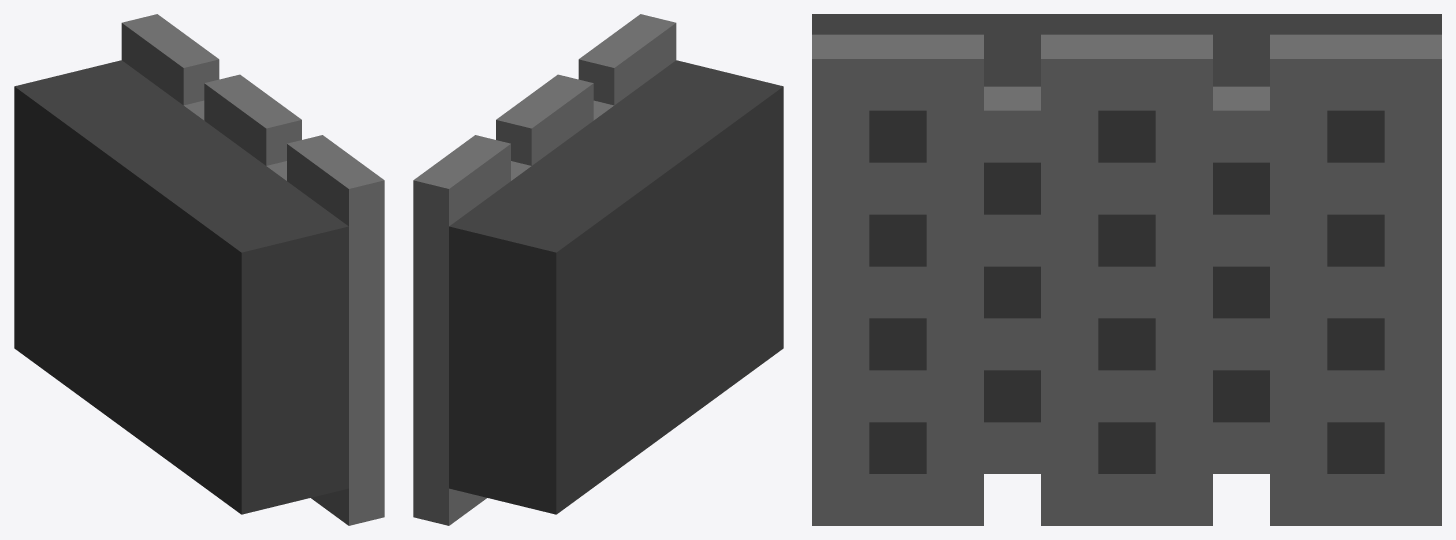
The model's file is wallpiece.FBX.
3 views of the same model, side by side, from view 1: azimuth 30°, elevation 25°; view 2: azimuth 150°, elevation 25°; view 3: azimuth 270°, elevation 25° (orthographic). The views are drawn at different scales.
Parts seen in each view (by area): view 1: wallPiece; view 2: wallPiece; view 3: wallPiece.
Boxes of the visible parts, box(x1,y1,x2,y2) form: wallPiece: box(14, 14, 384, 525); wallPiece: box(413, 14, 783, 525); wallPiece: box(812, 14, 1441, 525).
Bounding box in the file's own units: 4 × 9 × 11.
Materials: 1 (1 with a texture image).
